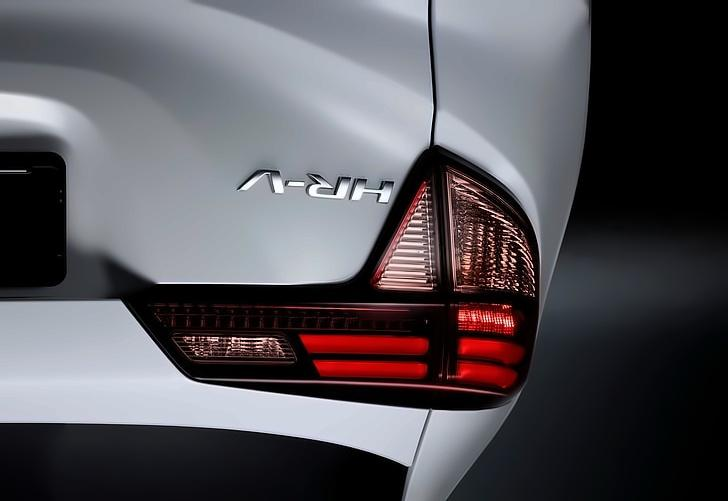Car boot: (0, 0, 433, 462)
Rear light - -L-: (122, 143, 539, 411)
